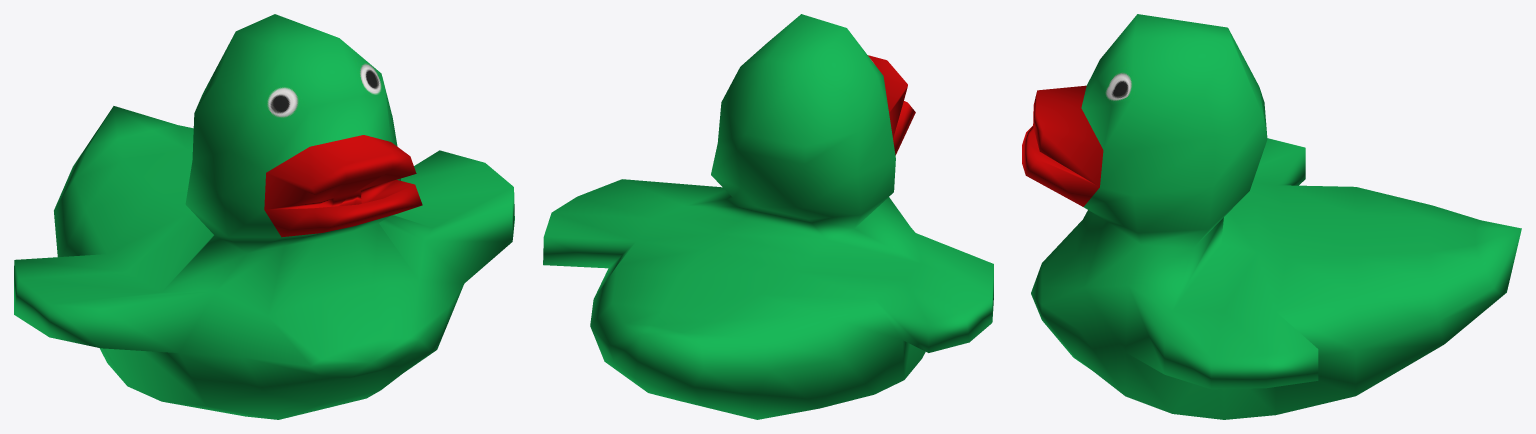
Rendered from green.fbx.
3 views of the same model, side by side, from view 1: azimuth 30°, elevation 25°; view 2: azimuth 150°, elevation 25°; view 3: azimuth 270°, elevation 25° (orthographic). The views are drawn at different scales.
Visible parts, largest first — view 1: pSphere3; view 2: pSphere3; view 3: pSphere3.
Boxes of the visible parts, x1,y1,x2,y2 form: pSphere3: (14, 14, 514, 419); pSphere3: (543, 14, 993, 419); pSphere3: (1022, 14, 1521, 419).
Size of the model in its own units: 82.97 by 63.43 by 79.4.
